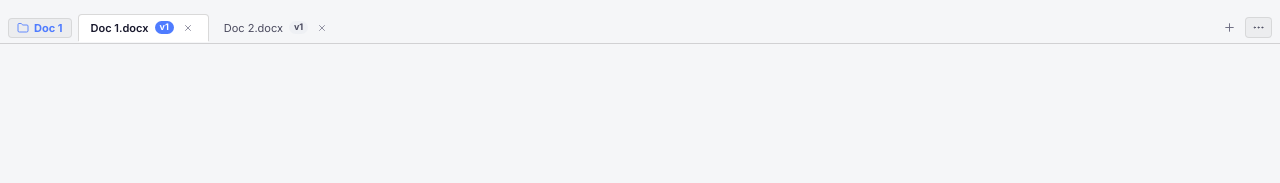
Scenario: ProjectTabs — el guard es del strip, no de la pantalla › con dos documentos vuelve el strip completo
Expected: the text "Doc 1.docx" is shown, [90,20,148,34]
Expected: the text "Doc 2.docx" is shown, [224,20,283,34]
Click the button named "Más acciones del proyecto". click: click(1258, 28)
box: [1245,17,1272,38]
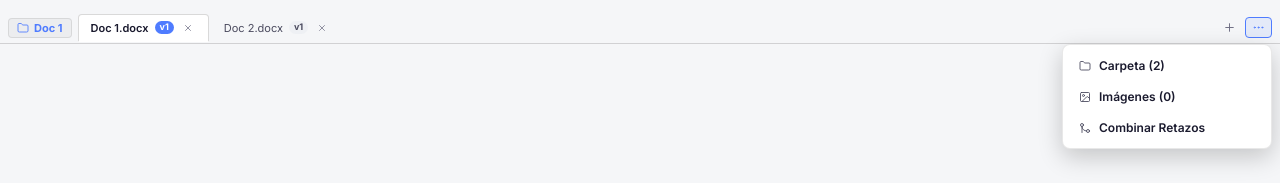
Expected: the text "Combinar Retazos" is shown, [1099,120,1205,135]
